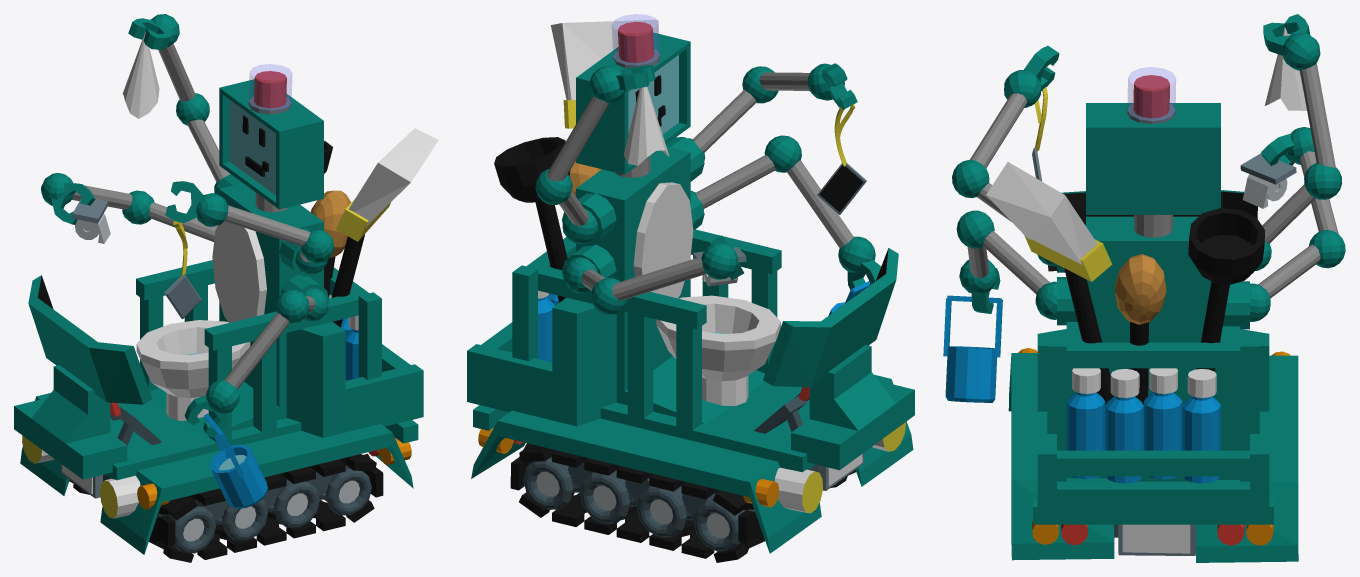
3 views of the same model, side by side, from view 1: azimuth 30°, elevation 25°; view 2: azimuth 150°, elevation 25°; view 3: azimuth 270°, elevation 25° (orthographic). The views are drawn at different scales.
Parts seen in each view (by area): view 1: node_MeshObject1528937472-PolyPaper17, node_MeshObject-1059891200-PolyPaper23, node_MeshObject-204795904-PolyPaper21, node_MeshObject367283200-PolyGlass24; view 2: node_MeshObject1528937472-PolyPaper17, node_MeshObject-1059891200-PolyPaper23, node_MeshObject-204795904-PolyPaper21, node_MeshObject367283200-PolyGlass24; view 3: node_MeshObject-1059891200-PolyPaper23, node_MeshObject1528937472-PolyPaper17, node_MeshObject-204795904-PolyPaper21, node_MeshObject367283200-PolyGlass24.
Boxes of the visible parts, x1,y1,x2,y2 form: node_MeshObject1528937472-PolyPaper17: [14, 14, 438, 508]; node_MeshObject-1059891200-PolyPaper23: [20, 32, 423, 562]; node_MeshObject-204795904-PolyPaper21: [41, 173, 132, 243]; node_MeshObject367283200-PolyGlass24: [249, 64, 292, 109]; node_MeshObject1528937472-PolyPaper17: [523, 19, 914, 551]; node_MeshObject-1059891200-PolyPaper23: [467, 86, 913, 562]; node_MeshObject-204795904-PolyPaper21: [612, 235, 746, 300]; node_MeshObject367283200-PolyGlass24: [612, 14, 659, 65]; node_MeshObject-1059891200-PolyPaper23: [943, 27, 1306, 562]; node_MeshObject1528937472-PolyPaper17: [945, 14, 1345, 404]; node_MeshObject-204795904-PolyPaper21: [1240, 127, 1338, 233]; node_MeshObject367283200-PolyGlass24: [1127, 67, 1175, 120].
Size of the model in its own units: 1.1 by 1.34 by 0.9922.
